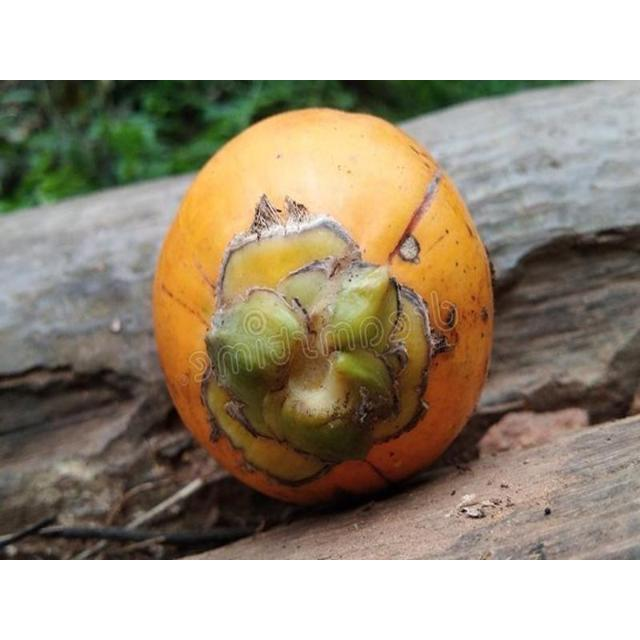good: (151, 109, 495, 510)
